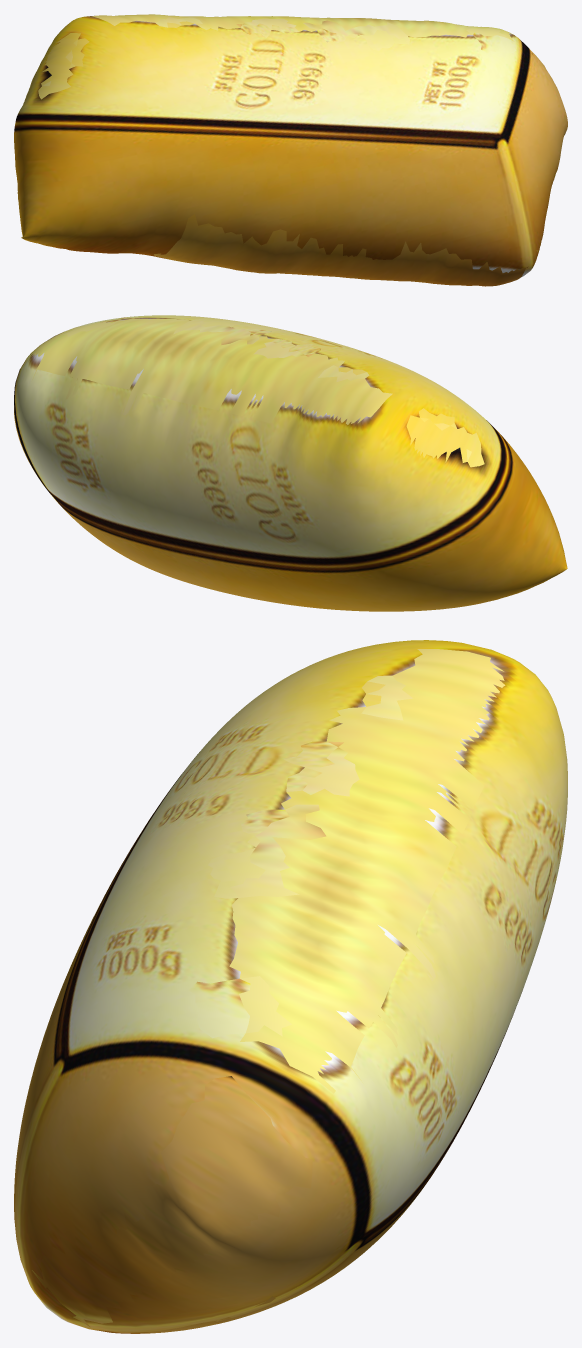
The model's file is goldbullions.fbx.
3 views of the same model, one above another, from view 1: azimuth 30°, elevation 25°; view 2: azimuth 150°, elevation 25°; view 3: azimuth 270°, elevation 25° (orthographic). The views are drawn at different scales.
Visible parts, largest first — view 1: mm_frame (31); view 2: mm_frame (31); view 3: mm_frame (31).
Boxes of the visible parts, box(x1,y1,x2,y2) form: mm_frame (31): box(14, 14, 567, 286); mm_frame (31): box(14, 315, 567, 611); mm_frame (31): box(14, 640, 567, 1333).
Size of the model in its own units: 973 by 475 by 534.
1 material, 1 textured.
